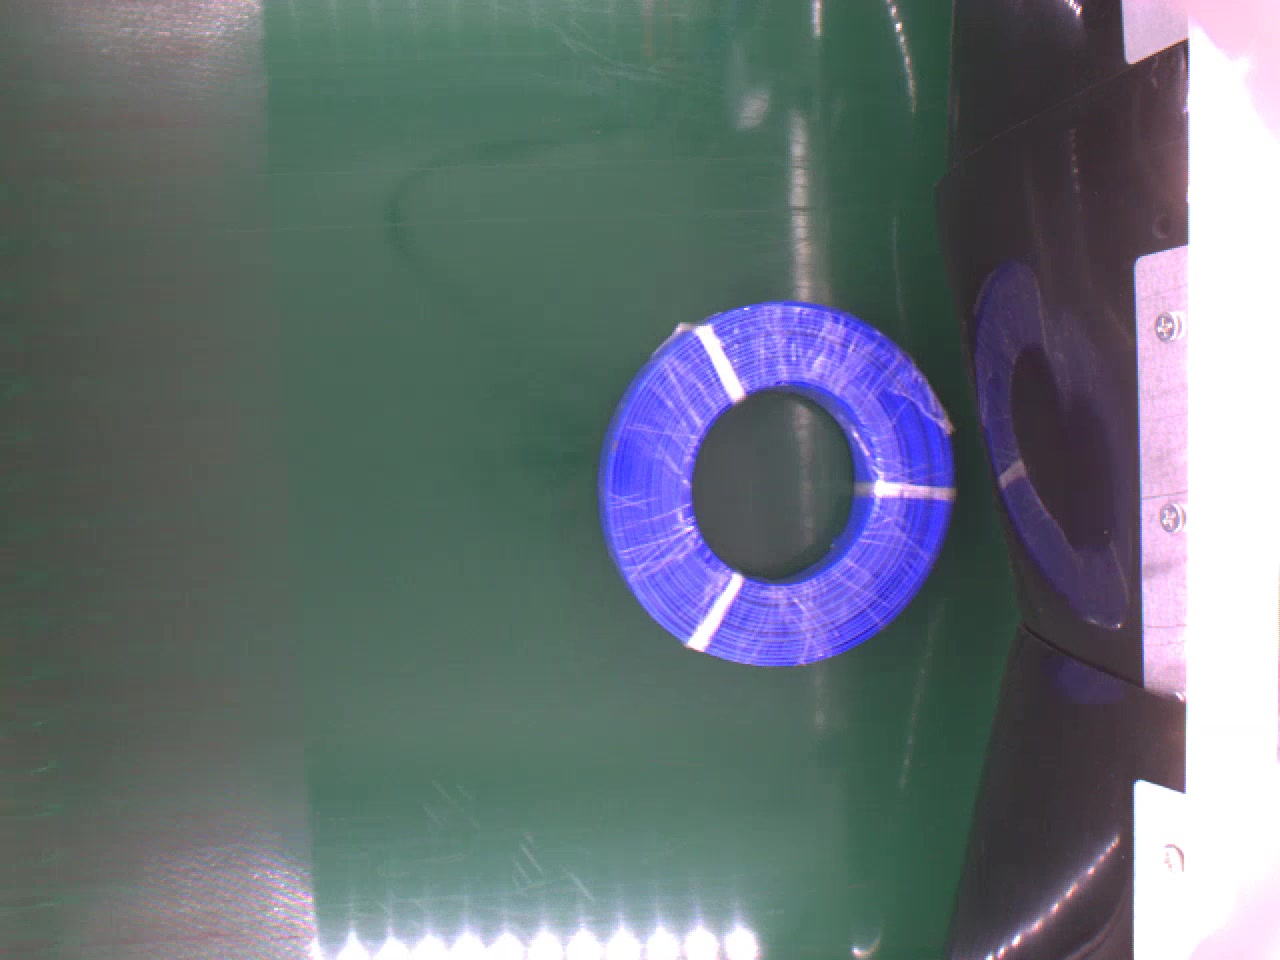blue: (601, 303, 956, 666)
